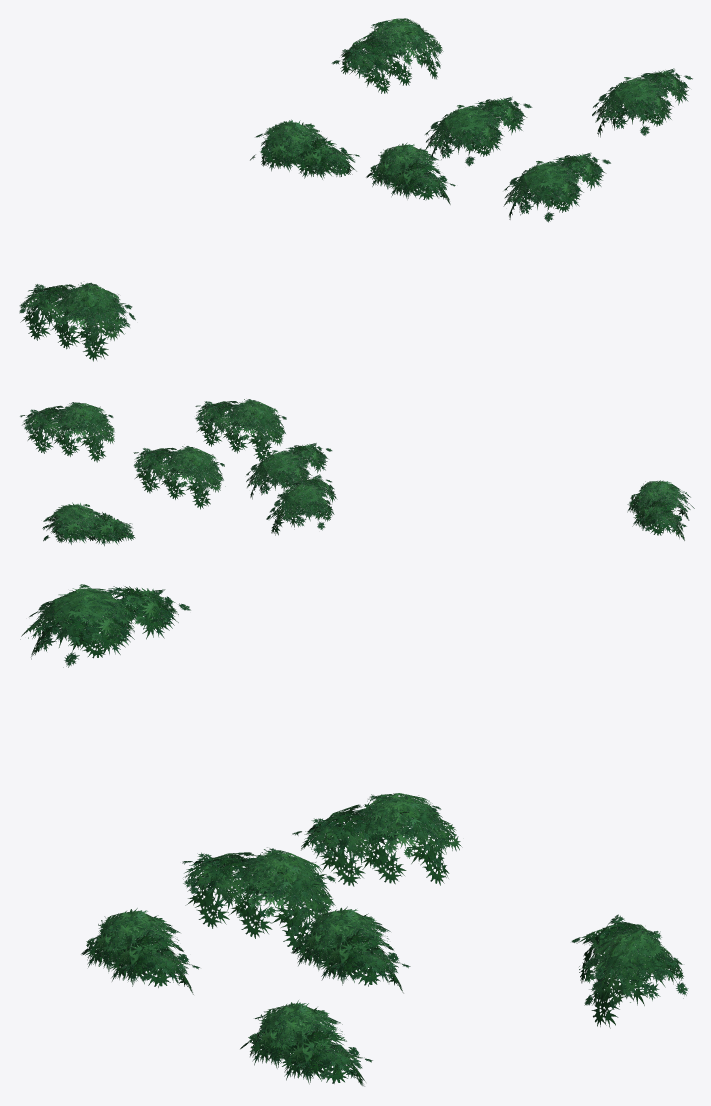
Rendered from Area_11_10.fbx.
The picture shows the model from 3 angles, top to bottom: view 1: azimuth 30°, elevation 25°; view 2: azimuth 150°, elevation 25°; view 3: azimuth 270°, elevation 25°; orthographic projection. The views are drawn at different scales.
Visible parts, largest first — view 1: Area_11_10; view 2: Area_11_10; view 3: Area_11_10.
Boxes of the visible parts, x1,y1,x2,y2 form: Area_11_10: (19, 18, 692, 361); Area_11_10: (20, 399, 694, 546); Area_11_10: (20, 584, 688, 1086).
Bounding box in the file's own units: 5108 × 478 × 2958.
